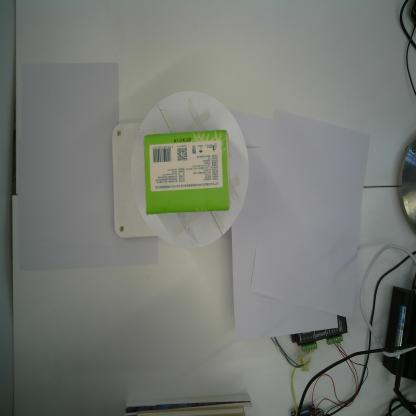Tissue: (143, 129, 231, 215)
